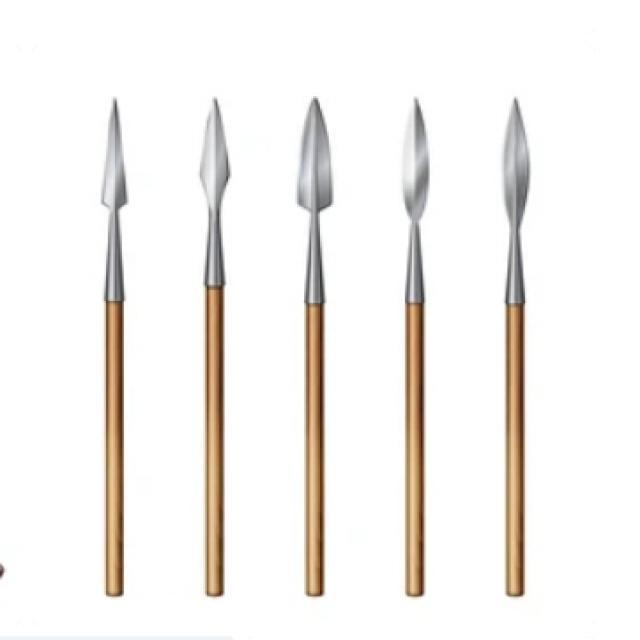spear: (285, 89, 350, 602), (490, 89, 541, 606), (87, 78, 133, 602), (391, 90, 437, 608), (193, 90, 233, 604)
